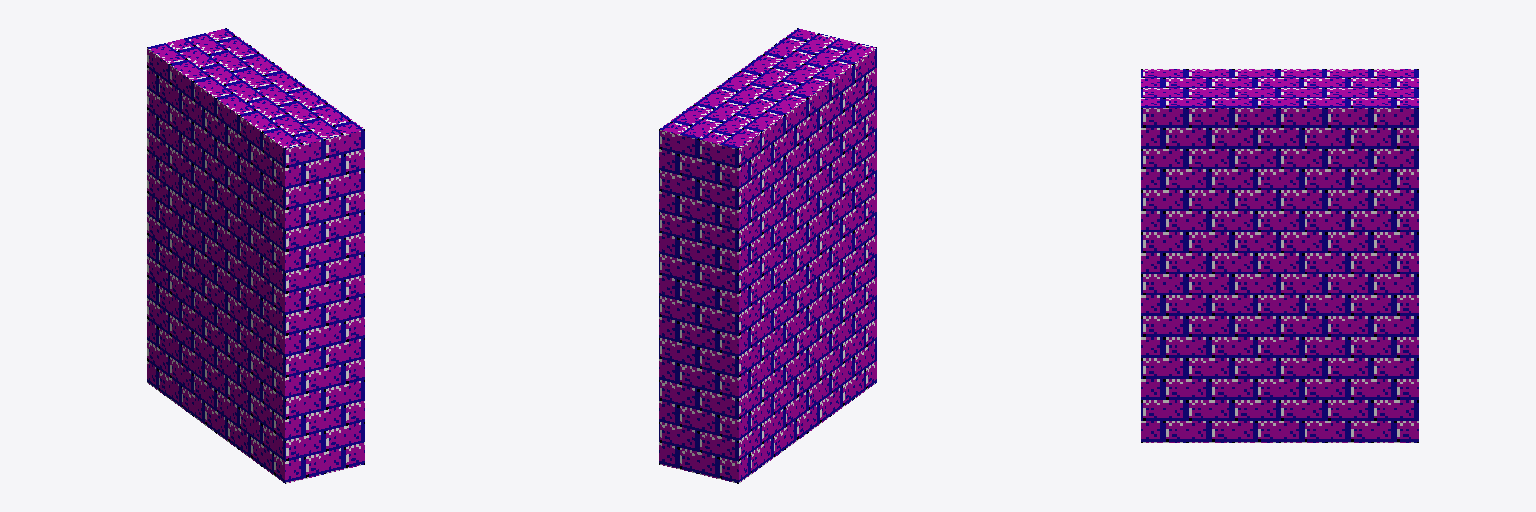
3 views of the same model, side by side, from view 1: azimuth 30°, elevation 25°; view 2: azimuth 150°, elevation 25°; view 3: azimuth 270°, elevation 25° (orthographic).
Visible parts, largest first — view 1: Cube; view 2: Cube; view 3: Cube.
Part boxes in pixels (left/top/right/bottom): Cube: left=147, top=28, right=364, bottom=483; Cube: left=659, top=28, right=876, bottom=483; Cube: left=1141, top=69, right=1418, bottom=442.
Size of the model in its own units: 2 by 8 by 6.
Materials: 1 (1 with a texture image).